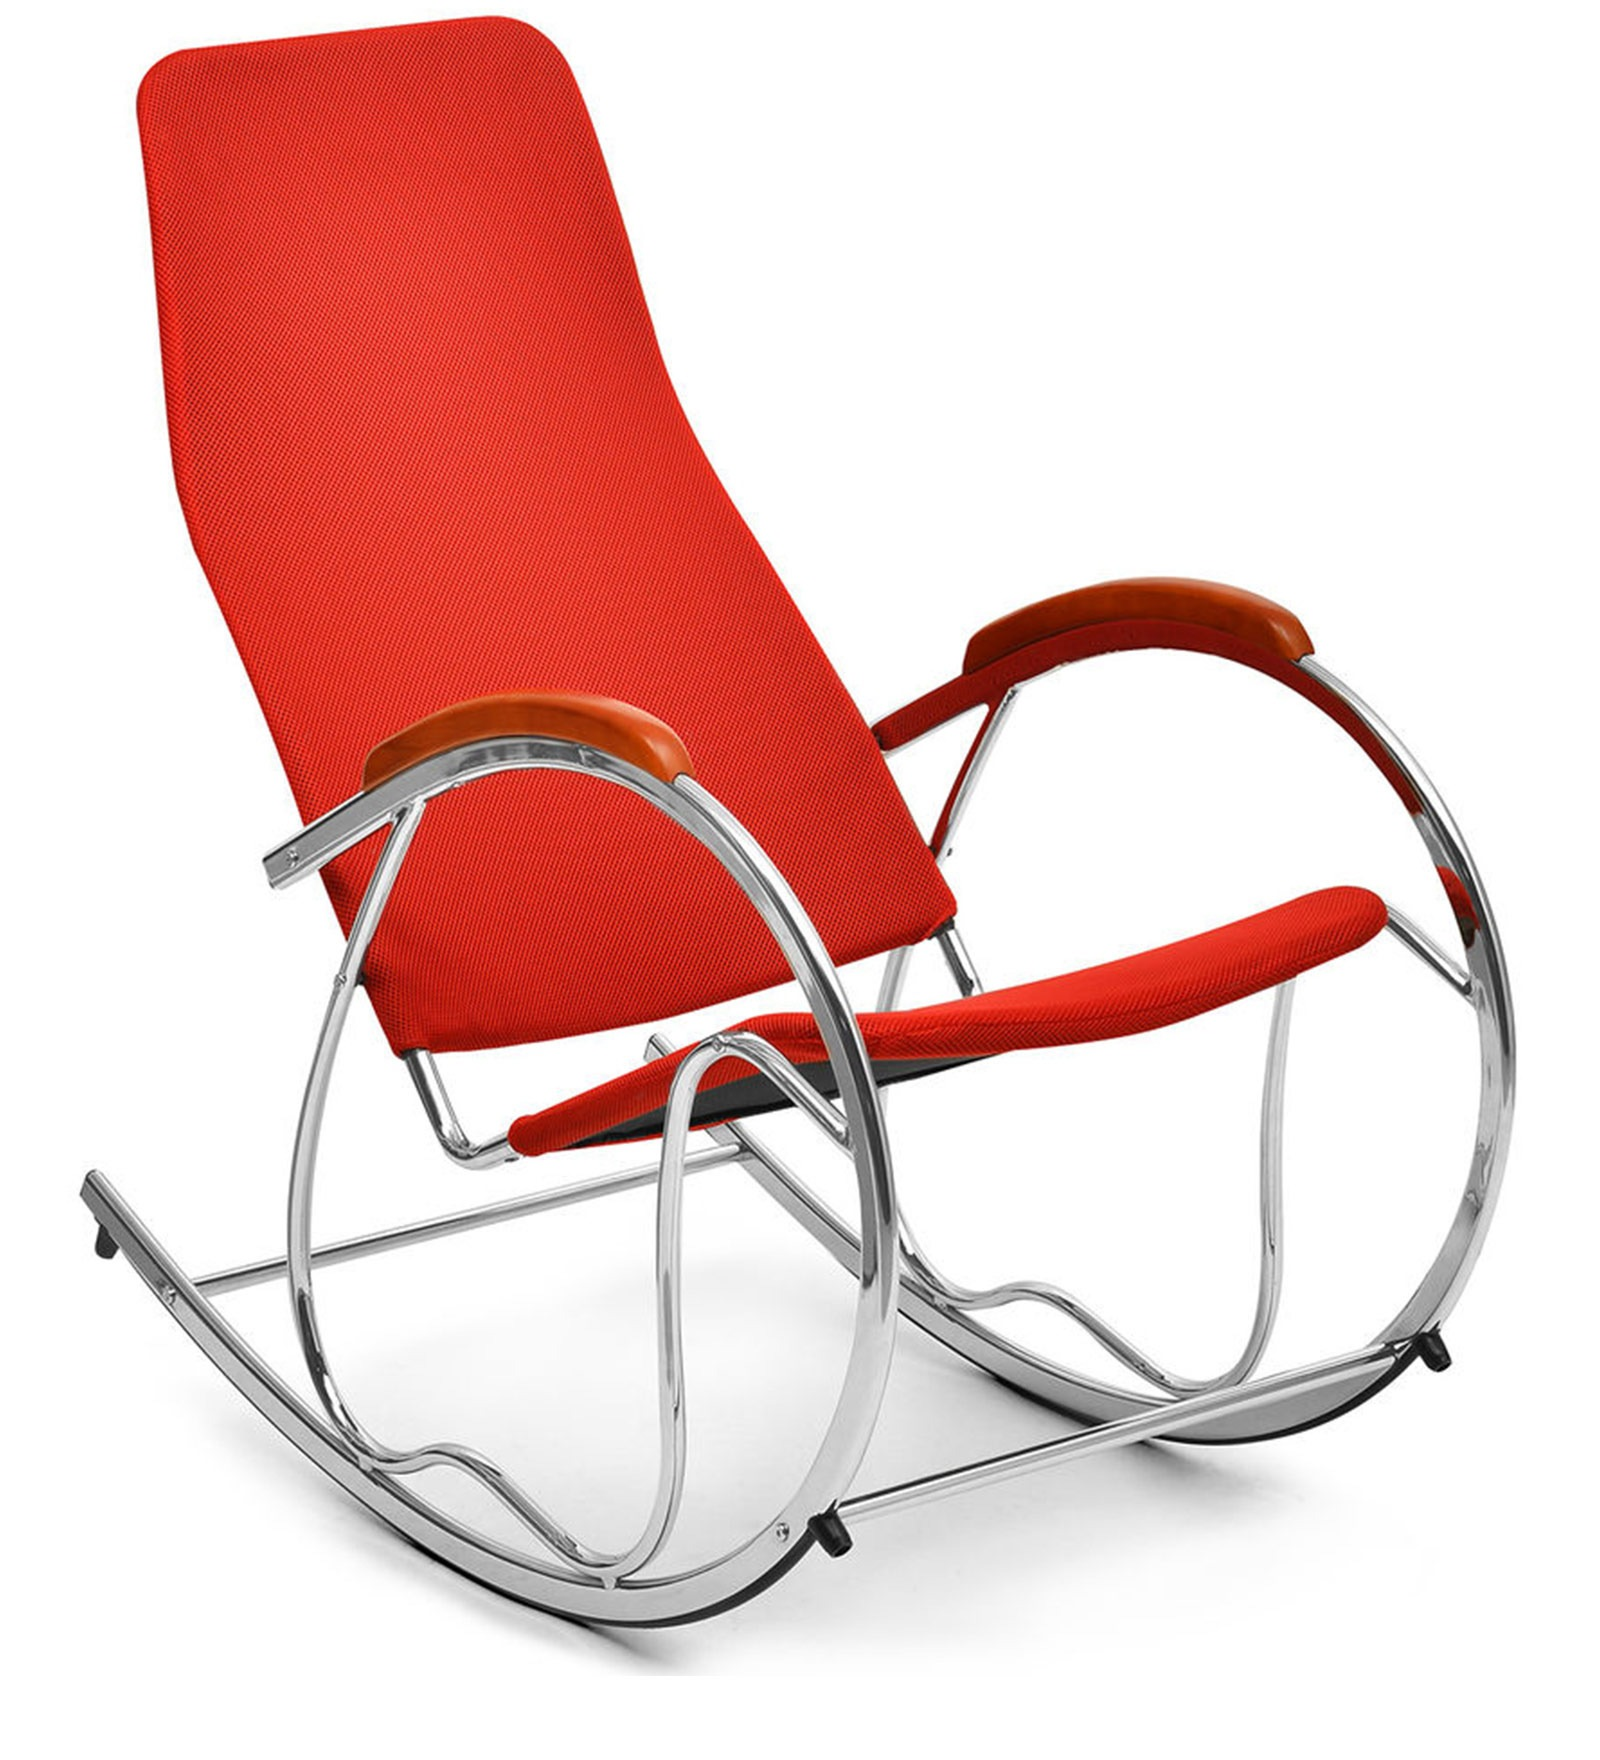Dylan Rocking Chair in Red Colour by Nilkamal: (77, 12, 1542, 1680)
